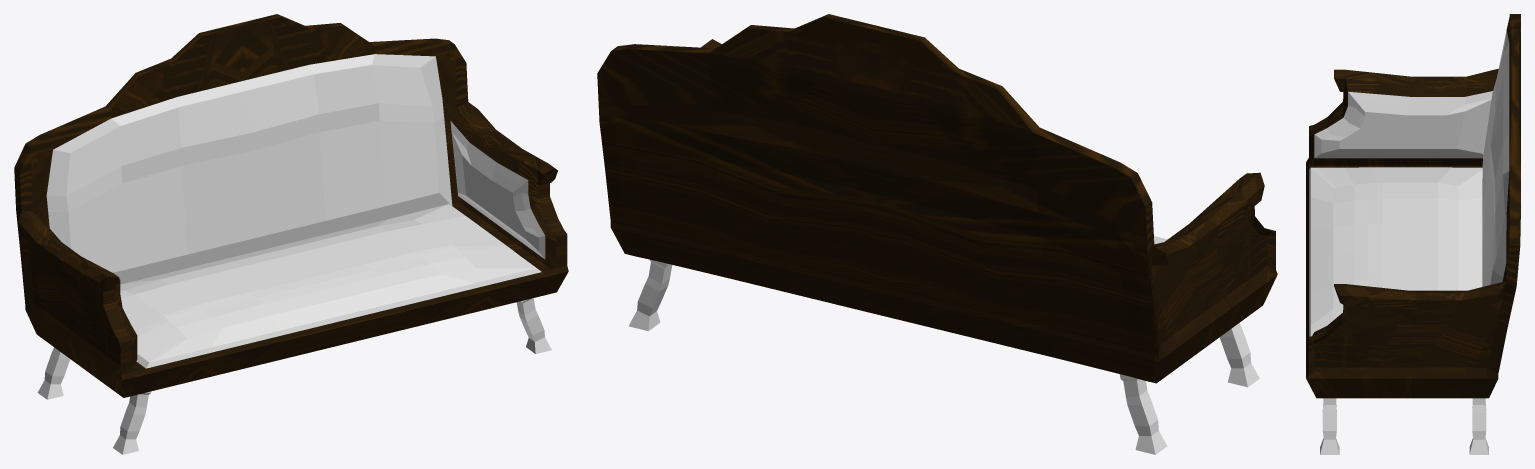
File: MESH_LivingCouch.fbx
3 renders of one model, left to right at view 1: azimuth 30°, elevation 25°; view 2: azimuth 150°, elevation 25°; view 3: azimuth 270°, elevation 25°, orthographic. The views are drawn at different scales.
Parts seen in each view (by area): view 1: legs, Couch; view 2: legs, Couch; view 3: legs, Couch.
Part boxes in pixels (<box>): legs: <box>14,14,568,397</box>; Couch: <box>37,298,551,454</box>; legs: <box>597,14,1277,383</box>; Couch: <box>629,259,1259,454</box>; legs: <box>1306,14,1520,398</box>; Couch: <box>1320,398,1488,454</box>.
Bounding box in the file's own units: 207 × 131 × 84.18.
